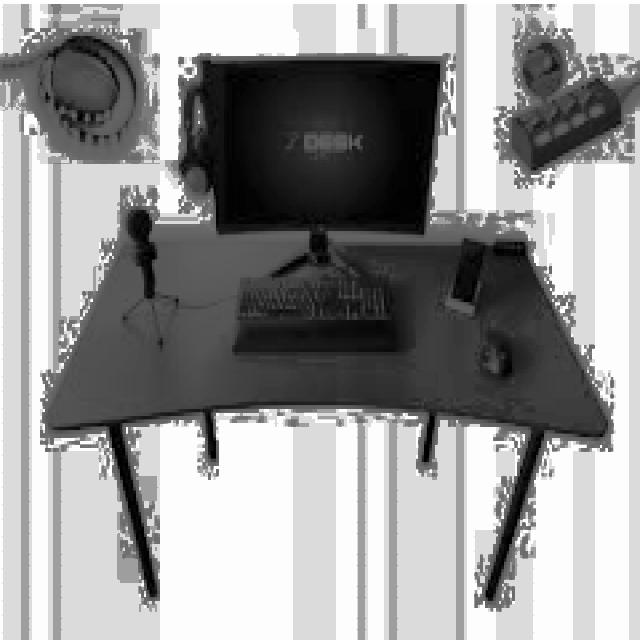table: (43, 231, 608, 601)
